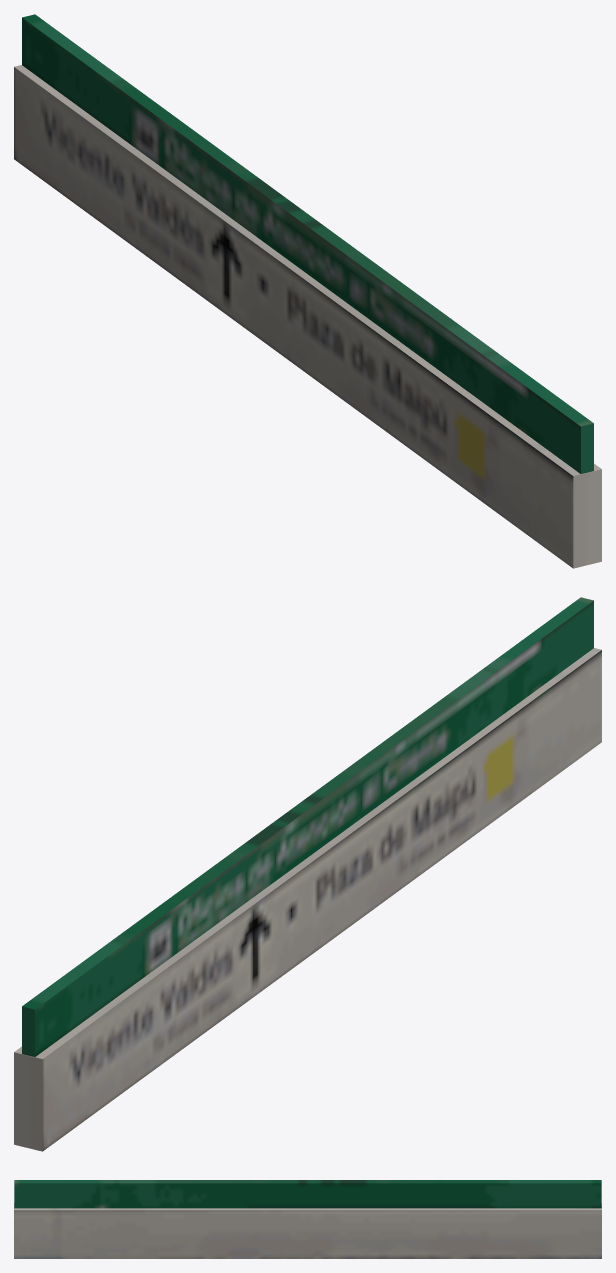
The model's file is direccionflecharriba.fbx.
The picture shows the model from 3 angles, top to bottom: view 1: azimuth 30°, elevation 25°; view 2: azimuth 150°, elevation 25°; view 3: azimuth 270°, elevation 25°; orthographic projection. The views are drawn at different scales.
Parts seen in each view (by area): view 1: Cube.046; view 2: Cube.046; view 3: Cube.046.
Part boxes in pixels (left/top/right/bottom): Cube.046: left=14, top=14, right=601, bottom=568; Cube.046: left=14, top=597, right=601, bottom=1151; Cube.046: left=14, top=1180, right=601, bottom=1258.
Size of the model in its own units: 7.92 by 36.96 by 268.
